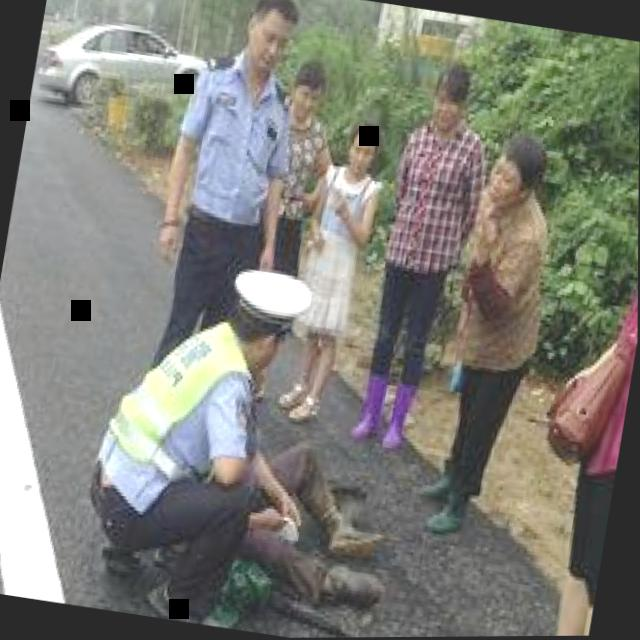Fall-Detected: (200, 384, 423, 632)
